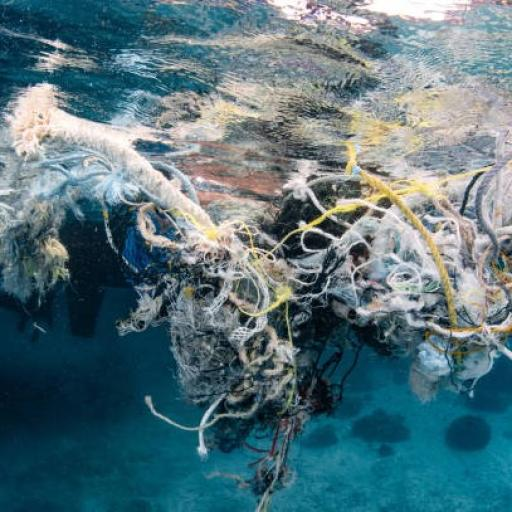net: (11, 101, 512, 444)
